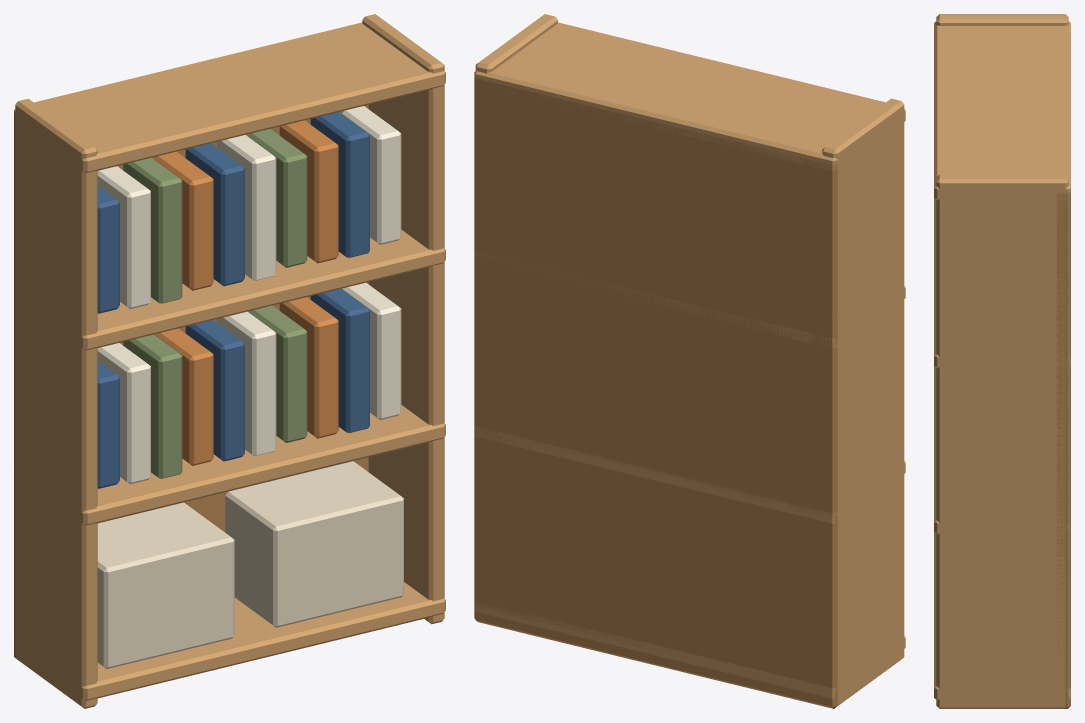
File: bookshelf.glb
The picture shows the model from 3 angles, left to right: view 1: azimuth 30°, elevation 25°; view 2: azimuth 150°, elevation 25°; view 3: azimuth 270°, elevation 25°; orthographic projection. The views are drawn at different scales.
Visible parts, largest first — view 1: bookshelf; view 2: bookshelf; view 3: bookshelf.
Boxes of the visible parts, x1,y1,x2,y2 form: bookshelf: (14, 14, 445, 708); bookshelf: (474, 14, 905, 708); bookshelf: (934, 14, 1070, 708).
Size of the model in its own units: 1.8 by 2.65 by 0.62.
